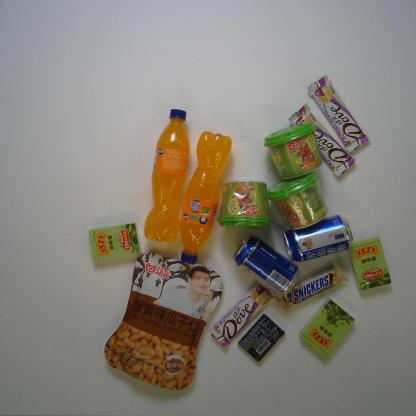Alcohol: (230, 232, 300, 296), (282, 213, 357, 261)
Candy: (297, 297, 356, 359), (346, 235, 392, 293), (85, 221, 142, 264)
Chocolate: (285, 100, 358, 177), (307, 74, 371, 157), (208, 278, 278, 348), (274, 260, 349, 314)
Dried Fruit: (101, 250, 223, 393)
Drink: (180, 131, 234, 265), (143, 109, 191, 244)
Gum: (236, 313, 287, 365)
Instant Drink: (266, 172, 330, 232), (262, 121, 326, 180), (216, 180, 268, 230)
